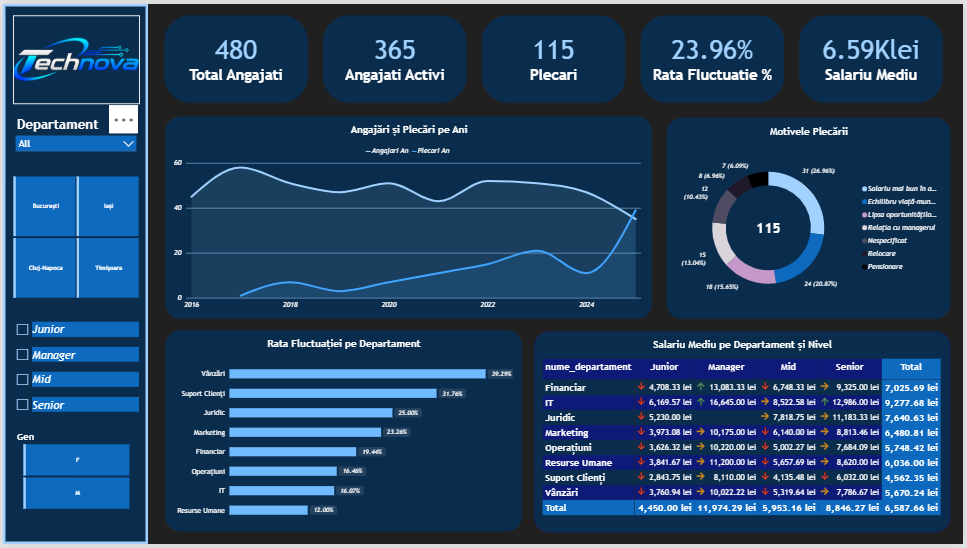

This screenshot's page, from the dashboard's own definition file:
{"tool":"powerbi","page":{"name":"Dashboard","canvas":[1920,1080],"ordinal":0},"visuals":[{"type":"shape","box":[0,0,290,1080],"z":0},{"type":"textbox","box":[10,0,280,280],"z":1000},{"type":"cardVisual","fields":{"Data":["angajati_curat.Total Angajati"]},"box":[307.5,7.5,317.5,205],"z":2000},{"type":"clusteredBarChart","title":"Rata Fluctuației pe Departament","fields":{"Category":["departamente.nume_departament"],"Y":["angajati_curat.Rata Fluctuatie %"]},"box":[325,652.5,712.5,402.5],"z":3000},{"type":"lineChart","title":"Angajări și Plecări pe Ani","fields":{"Category":["Ani.Value"],"Y":["angajati_curat.Angajari An","angajati_curat.Plecari An"]},"box":[325,225,972.5,405],"z":4000},{"type":"donutChart","title":"Motivele Plecării","fields":{"Category":["angajati_curat.motiv_plecare"],"Y":["angajati_curat.Plecari"]},"box":[1327.5,227.5,567.5,402.5],"z":5000},{"type":"pivotTable","title":"Salariu Mediu pe Departament și Nivel","fields":{"Columns":["angajati_curat.nivel"],"Rows":["departamente.nume_departament"],"Values":["angajati_curat.Salariu Mediu"]},"box":[1062.5,655,831.7,401.7],"z":6000},{"type":"image","box":[20,22,252.5,177.5],"z":7000},{"type":"slicer","fields":{"Values":["departamente.nume_departament"]},"box":[20,226,252,132],"z":8000},{"type":"slicer","fields":{"Values":["angajati_curat.oras"]},"box":[0,324,290,264],"z":8001},{"type":"slicer","fields":{"Values":["angajati_curat.nivel"]},"box":[20,608,252,264],"z":8002},{"type":"slicer","fields":{"Values":["angajati_curat.gen"]},"box":[20,856,252,156],"z":8003},{"type":"cardVisual","fields":{"Data":["angajati_curat.Angajati Activi"]},"box":[625,7.5,317.5,205],"z":8004},{"type":"cardVisual","fields":{"Data":["angajati_curat.Plecari"]},"box":[942.5,7.5,317.5,205],"z":8005},{"type":"cardVisual","fields":{"Data":["angajati_curat.Rata Fluctuatie %"]},"box":[1260,7.5,317.5,205],"z":8006},{"type":"cardVisual","fields":{"Data":["angajati_curat.Salariu Mediu"]},"box":[1577.5,7.5,317.5,205],"z":8007}]}

Visuals, with their boxes in screenshot pixels (x1, y1, x2, y2), scaled from the page's 1920x1080 canvas onto the 967x548 screenshot:
shape: [0, 0, 146, 547]
textbox: [5, 0, 146, 142]
cardVisual - angajati_curat.Total Angajati: [155, 4, 315, 108]
"Rata Fluctuației pe Departament" clusteredBarChart: [164, 331, 523, 535]
"Angajări și Plecări pe Ani" lineChart: [164, 114, 653, 320]
"Motivele Plecării" donutChart: [669, 115, 954, 320]
"Salariu Mediu pe Departament și Nivel" pivotTable: [535, 332, 954, 536]
image: [10, 11, 137, 101]
slicer - departamente.nume_departament: [10, 115, 137, 182]
slicer - angajati_curat.oras: [0, 164, 146, 298]
slicer - angajati_curat.nivel: [10, 309, 137, 442]
slicer - angajati_curat.gen: [10, 434, 137, 513]
cardVisual - angajati_curat.Angajati Activi: [315, 4, 475, 108]
cardVisual - angajati_curat.Plecari: [475, 4, 635, 108]
cardVisual - angajati_curat.Rata Fluctuatie %: [635, 4, 795, 108]
cardVisual - angajati_curat.Salariu Mediu: [795, 4, 954, 108]
